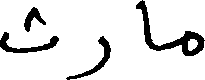ا: (140, 0, 153, 51)
ث: (0, 5, 58, 54)
ر: (66, 34, 109, 79)
م: (180, 29, 202, 57)
